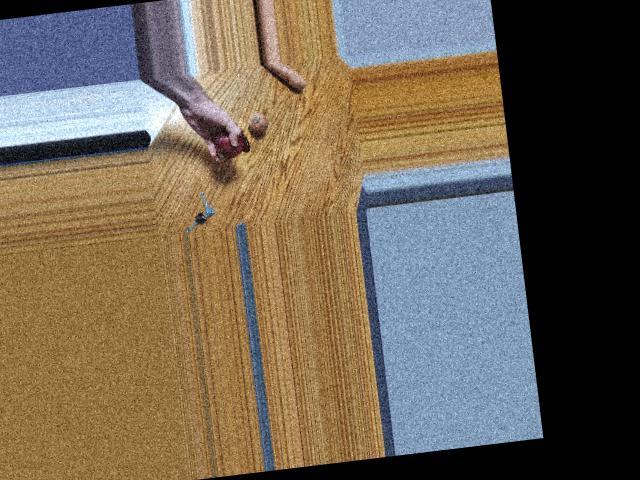onion: (238, 107, 271, 136)
